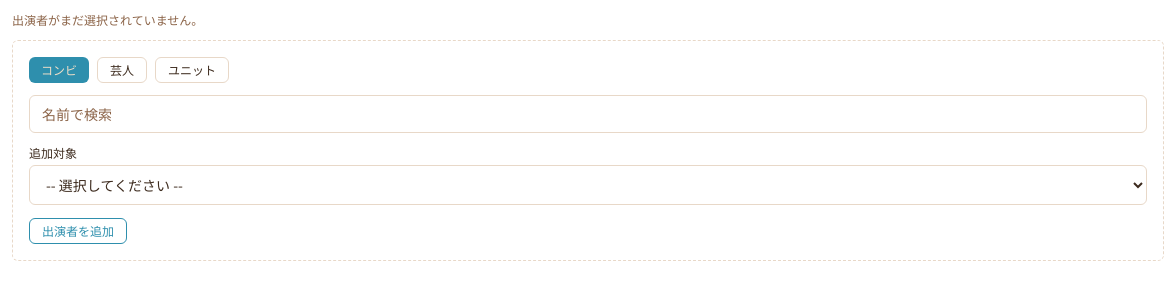
Test: CastSelector › 追加した出演者は選択タグとして表示される
This screenshot has width=1164, height=288.
Click the button "芸人" at (122, 70), box [97,57,147,83]
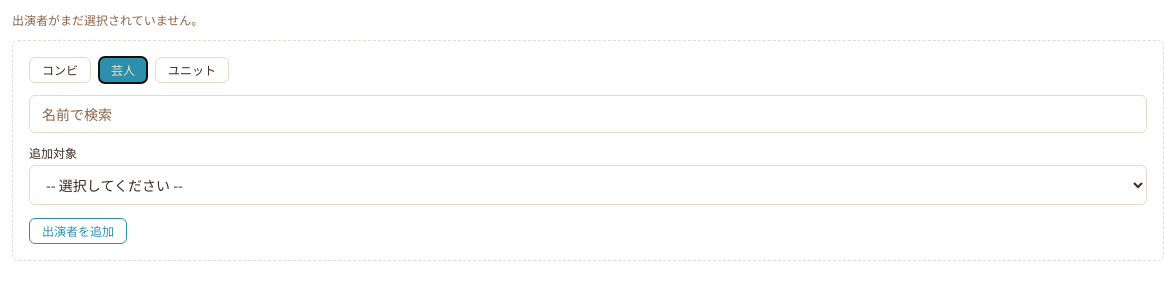
Select "渡辺銀次（わたなべぎんじ）" in the dropdown labelled "追加対象" at (588, 185), box [29,165,1147,205]
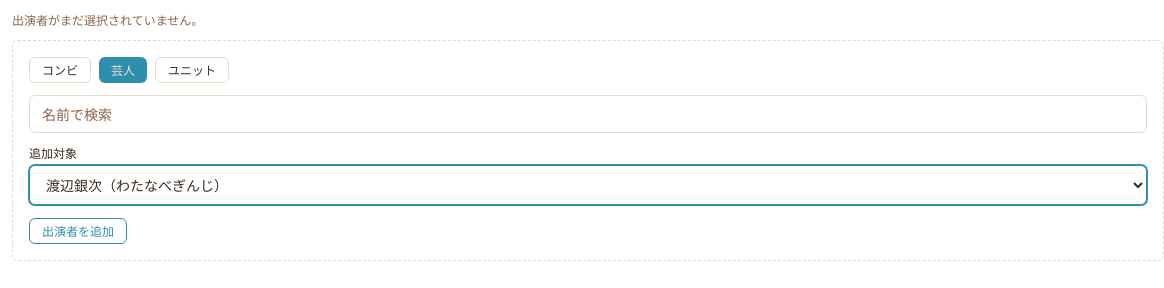
Click the button "出演者を追加" at (78, 231), box [29,218,127,244]
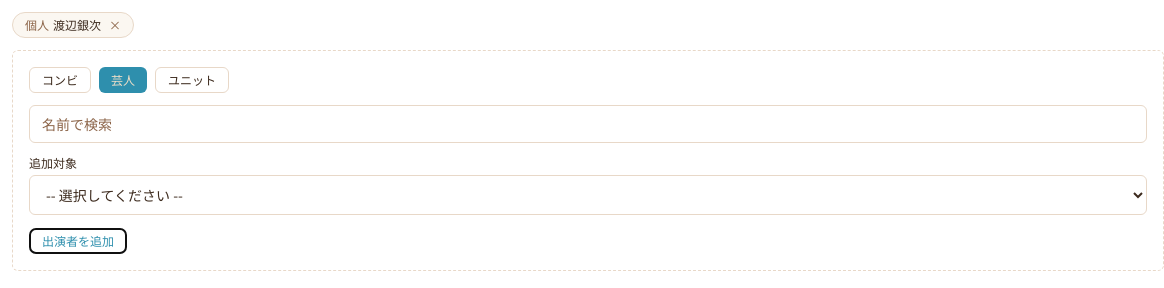
expect the list item "渡辺銀次" is shown: met, box [53,16,101,33]
expect the text "個人" is shown: met, box [25,17,49,33]
